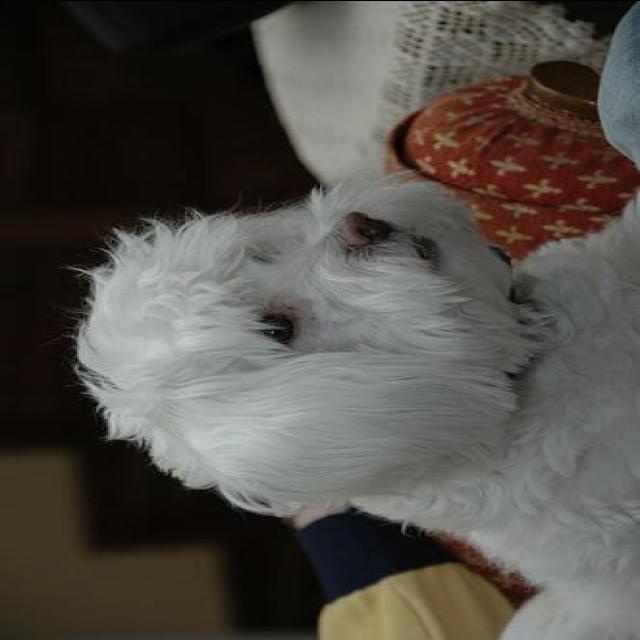maltese_dog: (75, 171, 634, 638)
